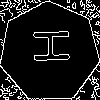H: (24, 27, 70, 65)
